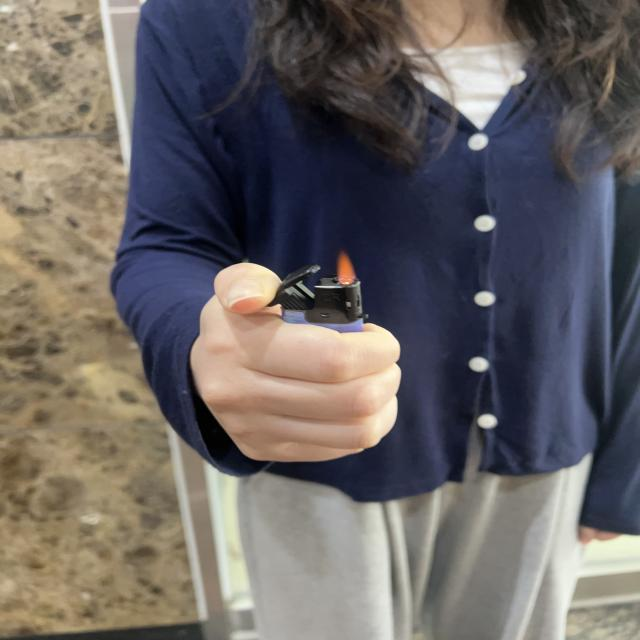fire: (336, 250, 358, 286)
